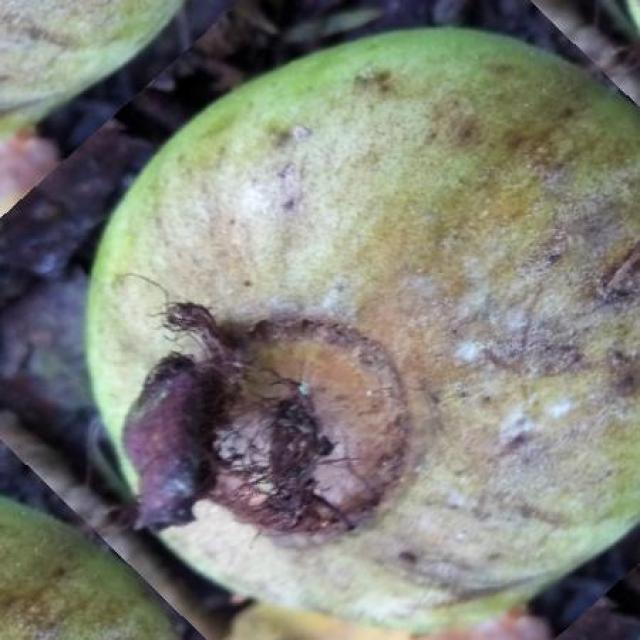Styler and Root: (88, 29, 640, 629)
